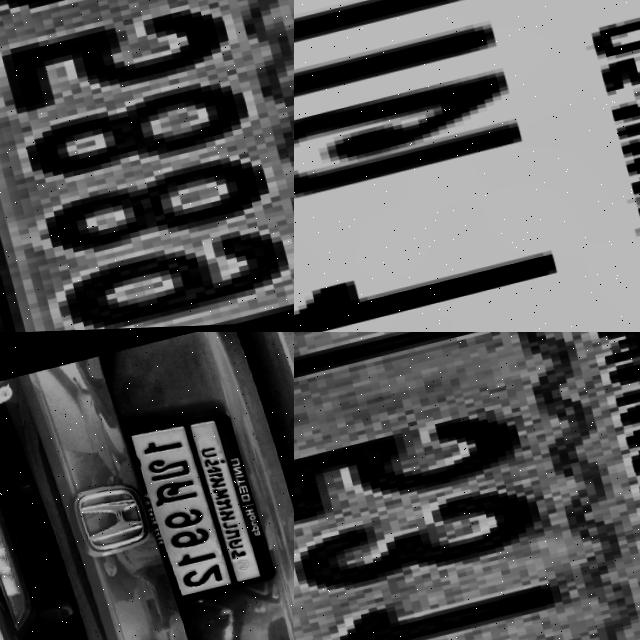license-plate: (294, 0, 640, 332), (294, 332, 640, 640), (0, 0, 294, 332), (119, 405, 274, 608)
